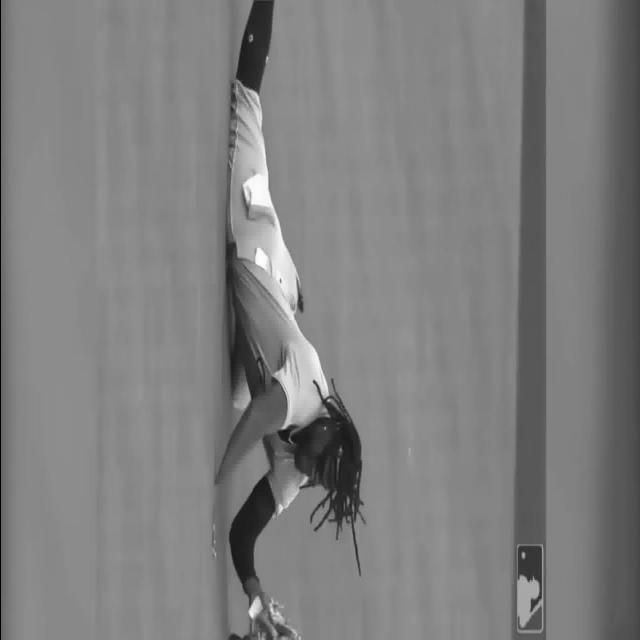baseball_glove: (252, 606, 311, 640)
